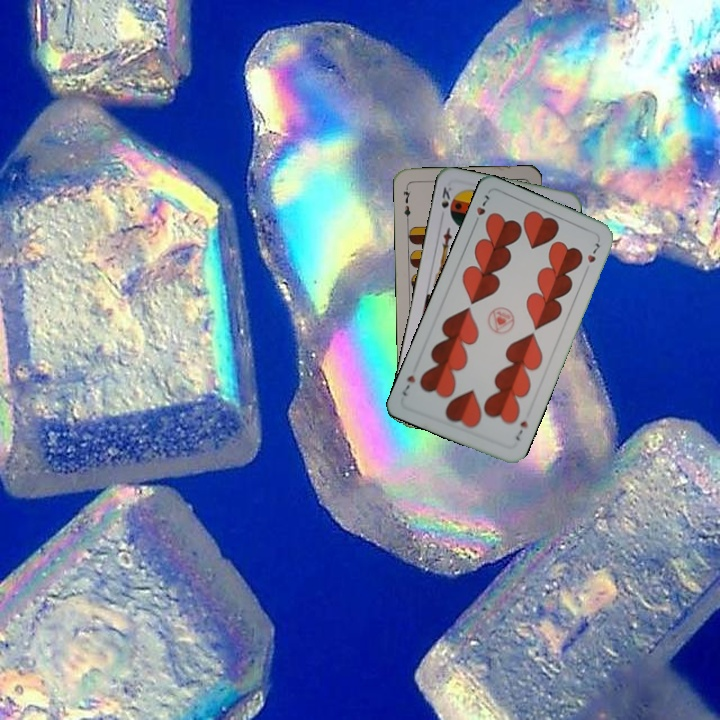E7: (399, 183, 413, 223)
H7: (469, 191, 492, 228), (511, 416, 531, 443)
SK: (437, 183, 456, 217)
